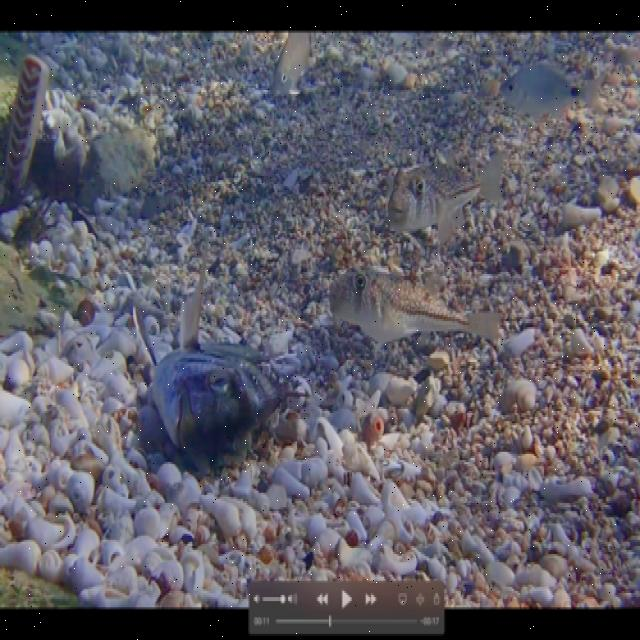Balik: (134, 246, 285, 474), (329, 268, 501, 347), (387, 154, 504, 243), (500, 64, 602, 118), (272, 33, 312, 96)
